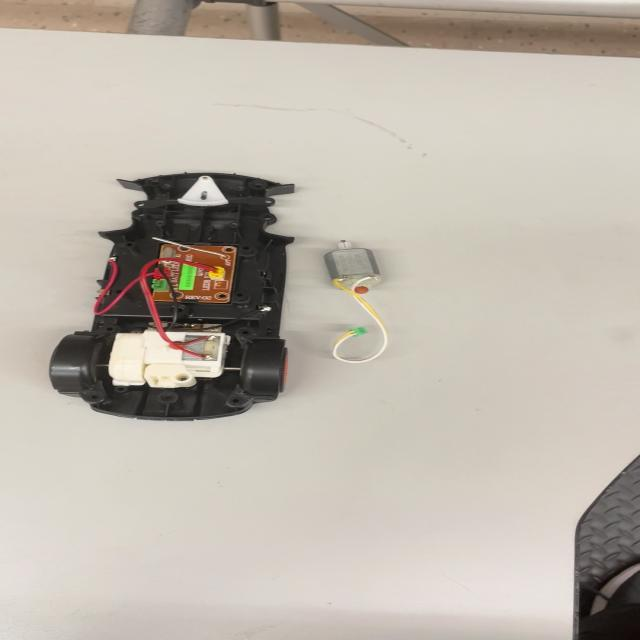Chassis: (80, 153, 292, 425)
motor: (308, 225, 403, 362)
